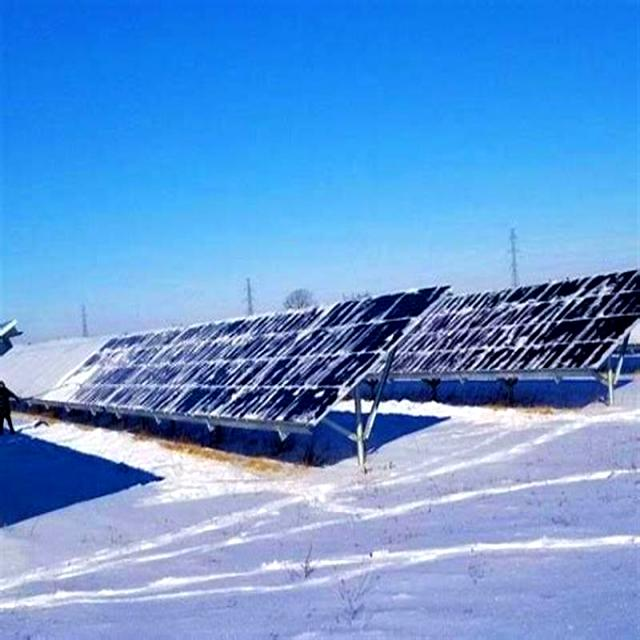panel: (209, 372, 321, 429), (515, 287, 578, 363), (587, 290, 640, 370), (314, 308, 384, 365), (435, 304, 493, 370), (216, 322, 321, 356), (138, 331, 220, 368), (128, 383, 215, 414), (42, 380, 126, 408), (86, 338, 137, 370)
